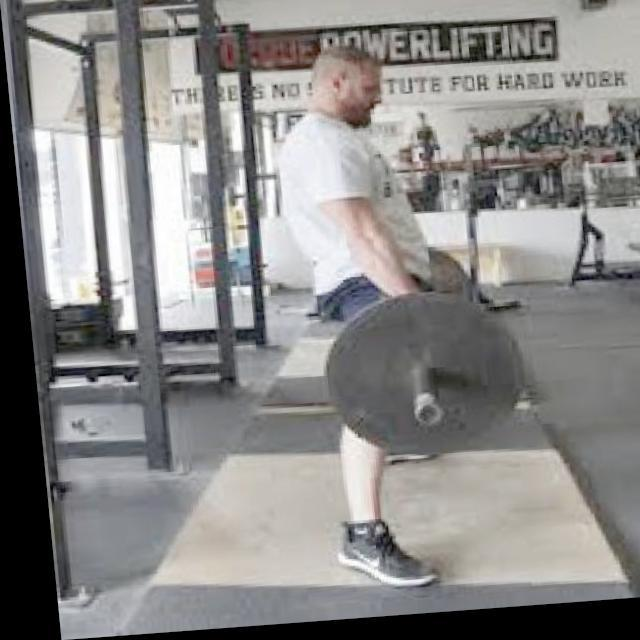barbell: (308, 290, 527, 475)
